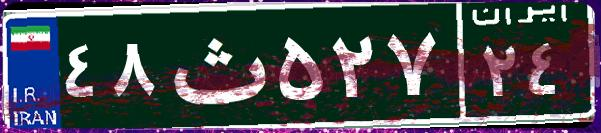2: (330, 28, 385, 110), (475, 38, 525, 113)
4: (57, 26, 110, 107), (525, 38, 570, 115)
5: (273, 28, 330, 110)
7: (385, 28, 445, 110)
8: (110, 28, 158, 105)
ث: (158, 15, 273, 115)
